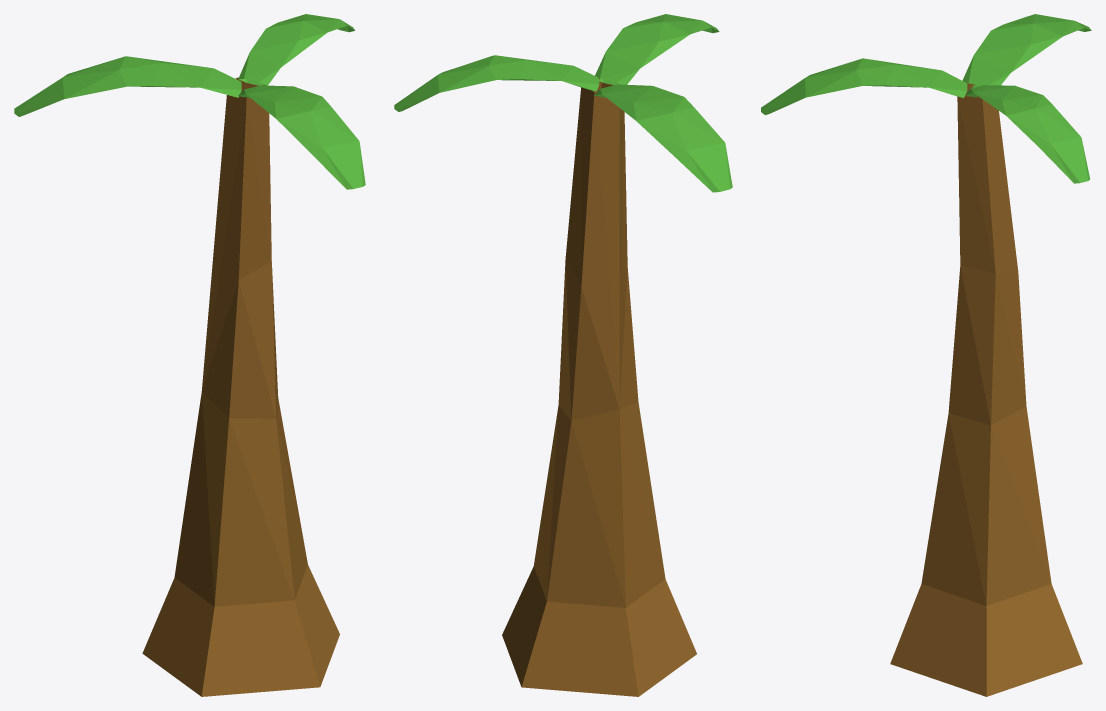
File: palm_tree.obj
3 views of the same model, side by side, from view 1: azimuth 30°, elevation 25°; view 2: azimuth 150°, elevation 25°; view 3: azimuth 270°, elevation 25° (orthographic). The views are drawn at different scales.
Parts seen in each view (by area): view 1: tronco, hoja, hoja.1, hoja.2; view 2: tronco, hoja.1, hoja.2, hoja; view 3: tronco, hoja.2, hoja, hoja.1.
Boxes of the visible parts, box(x1,y1,x2,y2) form: tronco: box(142, 77, 339, 696); hoja: box(238, 85, 365, 189); hoja.1: box(14, 56, 241, 116); hoja.2: box(238, 14, 354, 85); tronco: box(502, 78, 696, 696); hoja.1: box(593, 84, 732, 192); hoja.2: box(394, 55, 599, 111); hoja: box(595, 14, 719, 85); tronco: box(890, 83, 1082, 696); hoja.2: box(965, 85, 1090, 183); hoja: box(761, 58, 967, 115); hoja.1: box(962, 14, 1091, 87).
Size of the model in its own units: 687 by 1155 by 594.
